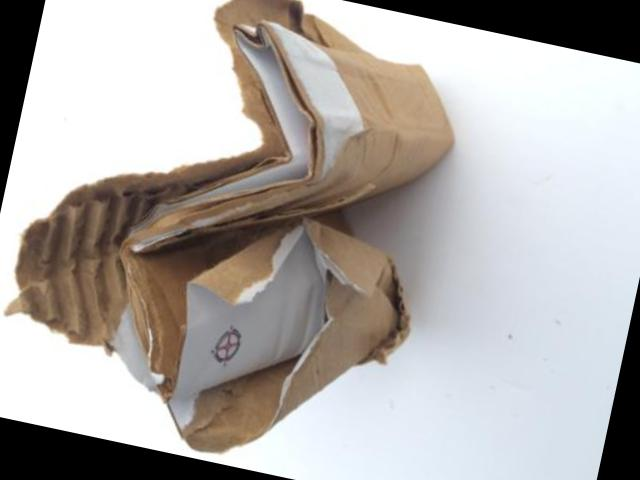cardboard paper: (6, 0, 450, 449)
